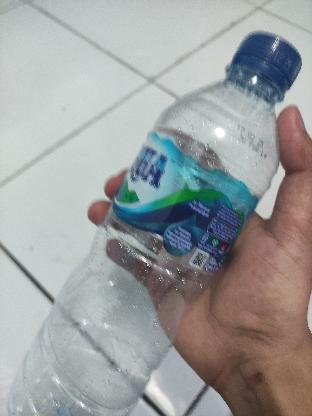Plastic Bottle: (6, 30, 312, 416)
